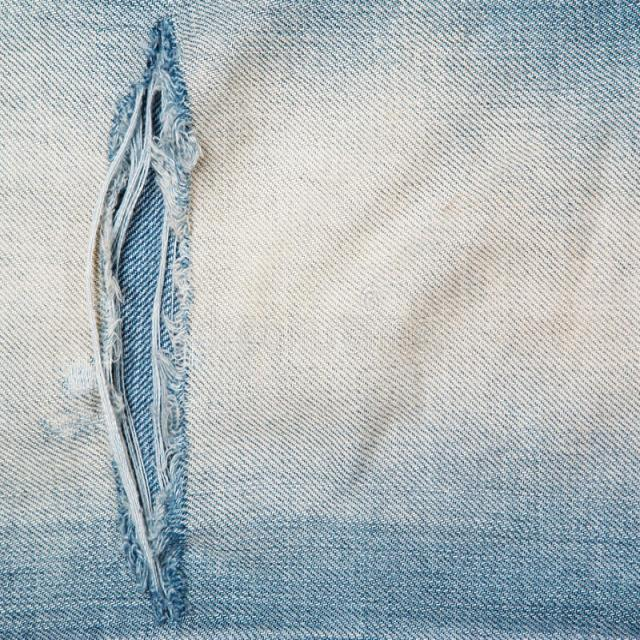Hole: (91, 18, 199, 624)
